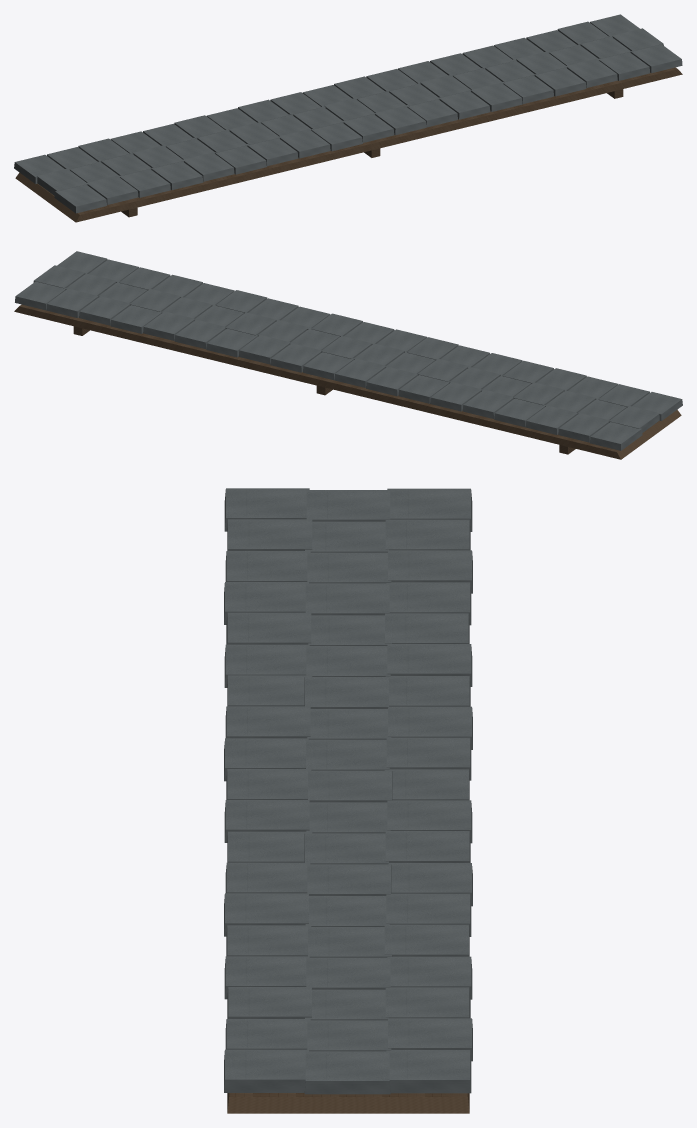
File: village__05__expanded_warehouse__roof_right__section_04.glb
The picture shows the model from 3 angles, top to bottom: view 1: azimuth 30°, elevation 25°; view 2: azimuth 150°, elevation 25°; view 3: azimuth 270°, elevation 25°; orthographic projection. The views are drawn at different scales.
Parts seen in each view (by area): view 1: RoofRight_Course_04; view 2: RoofRight_Course_04; view 3: RoofRight_Course_04.
Boxes of the visible parts, x1,y1,x2,y2 form: RoofRight_Course_04: [14, 14, 682, 222]; RoofRight_Course_04: [14, 251, 682, 459]; RoofRight_Course_04: [224, 488, 472, 1113].
Size of the model in its own units: 6.96 by 0.2995 by 1.23.
Materials: 2 (2 with a texture image).
